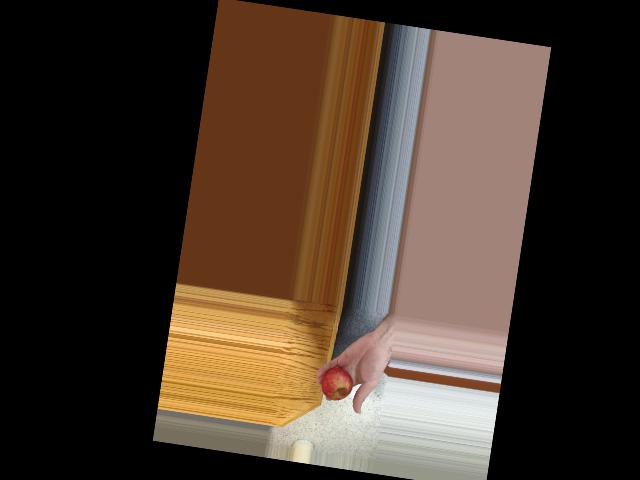apple: (319, 363, 357, 403)
